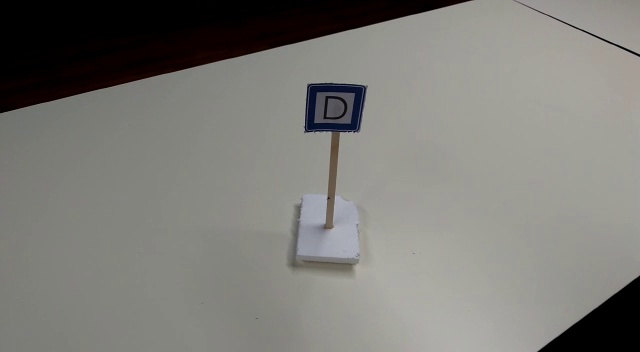durak: (303, 80, 367, 134)
